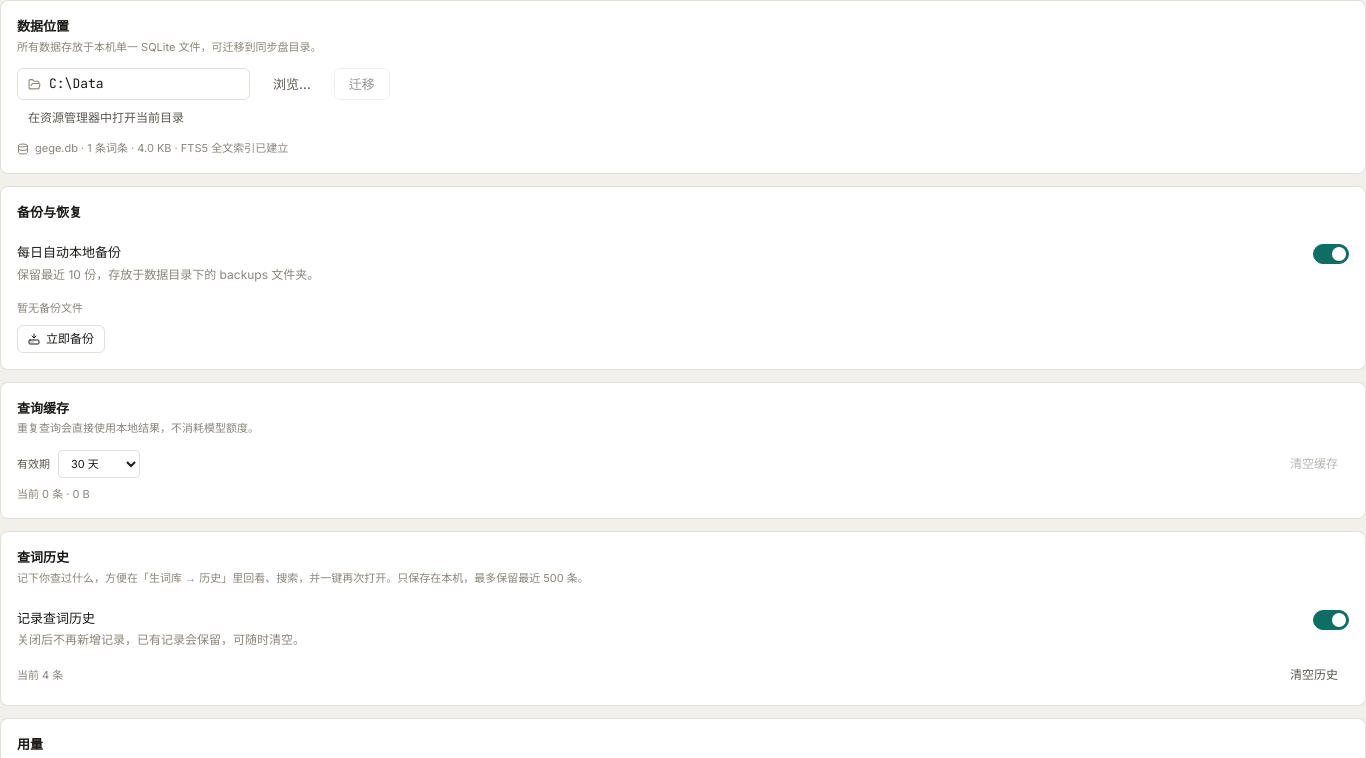
Test: DataSection export › lookup history › shows how many lookups are remembered and clears them only after asking
The width and height of the screenshot is (1366, 758).
Expected: the text "当前 4 条" is shown, x1=17 y1=668 x2=63 y2=682
Click the button "清空历史" at (1314, 675), box x1=1279 y1=661 x2=1349 y2=689
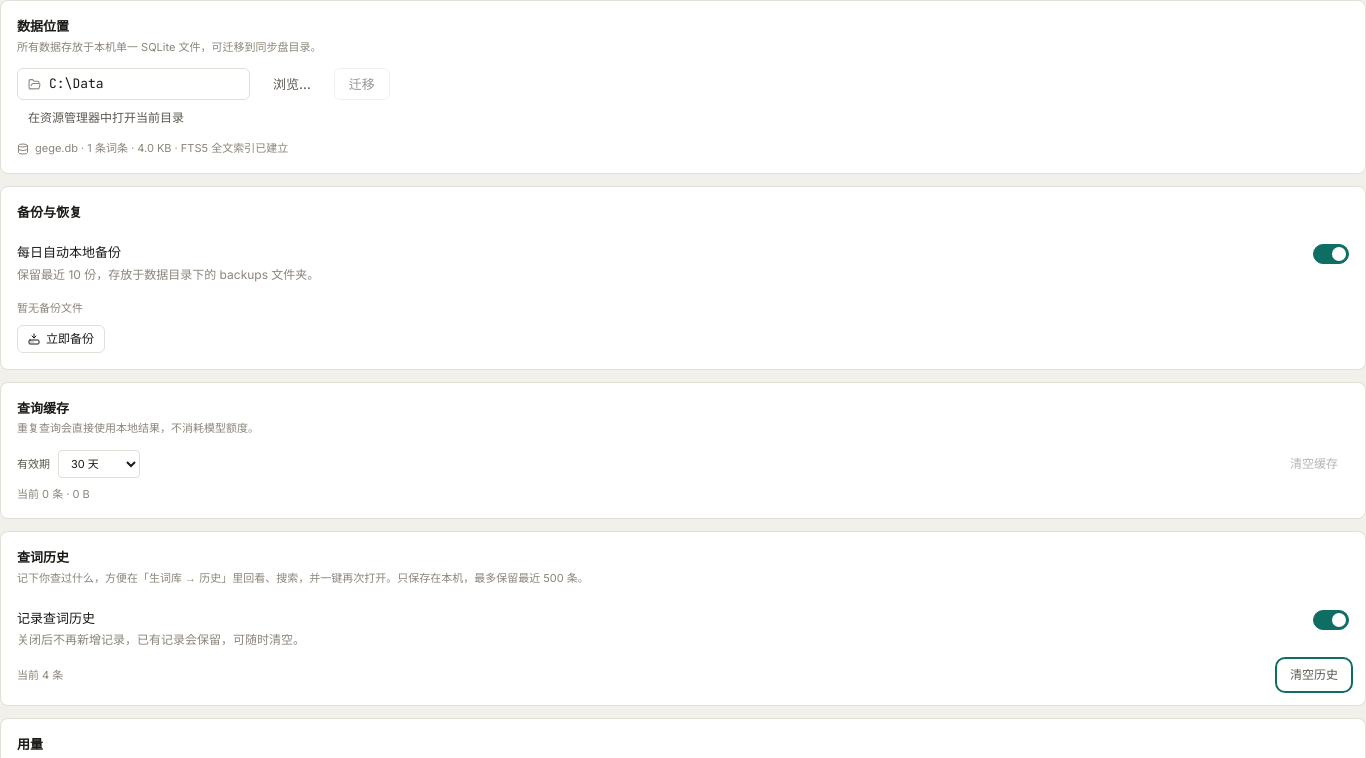
Click the button "清空历史" at (1314, 675), box x1=1279 y1=661 x2=1349 y2=689
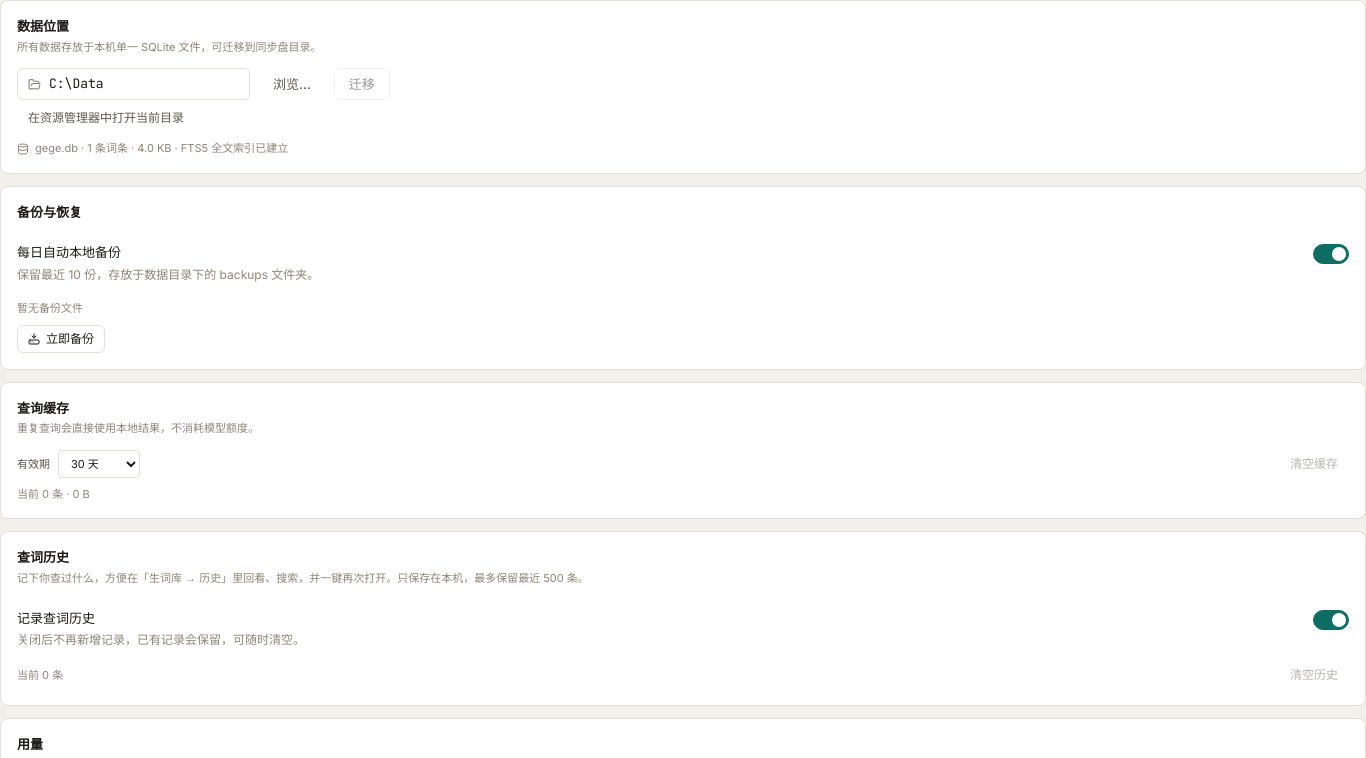
Result: the text "当前 0 条" is shown at x1=17 y1=668 x2=63 y2=682
Result: the button "清空历史" is disabled at x1=1279 y1=661 x2=1349 y2=689
